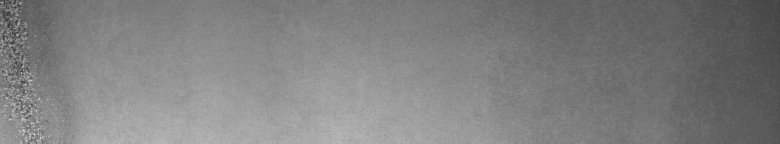hc: (4, 4, 56, 136)
